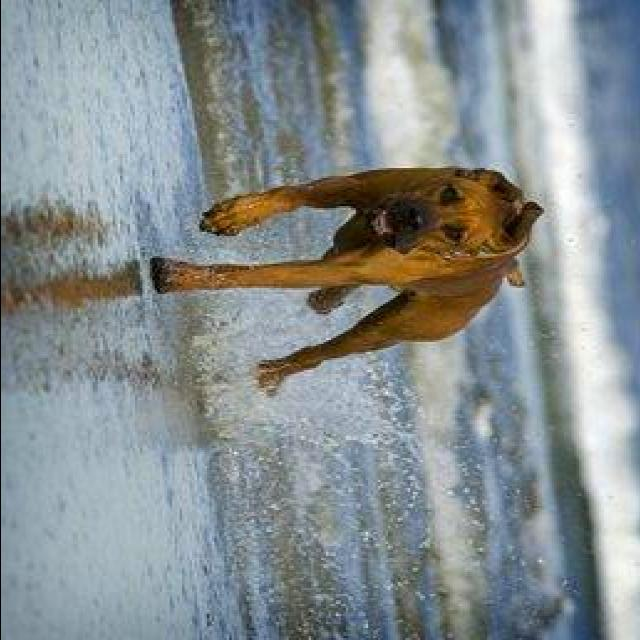rhodesian_ridgeback: (144, 160, 544, 398)
